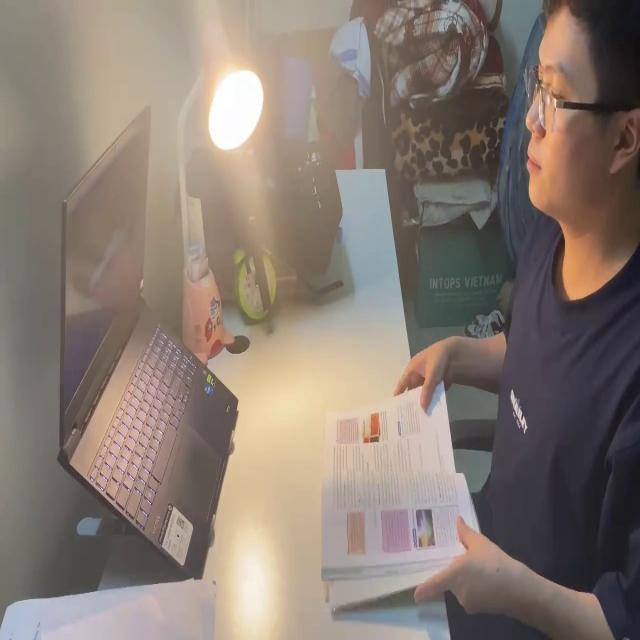book: (316, 376, 484, 613), (3, 578, 219, 640)
laptop: (56, 100, 238, 582)
student: (390, 0, 640, 640)
